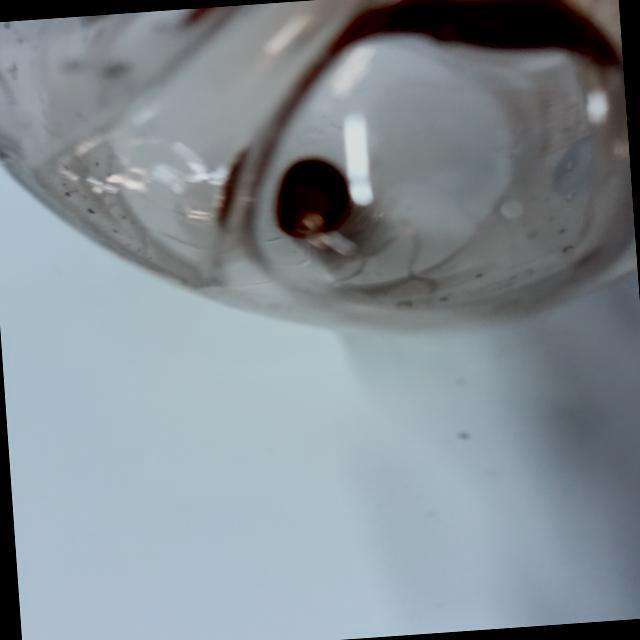plastic: (0, 0, 640, 396)
